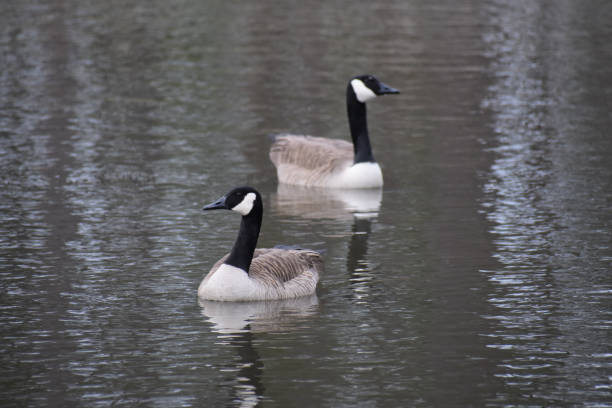goose: (267, 73, 402, 191), (194, 183, 324, 303)
